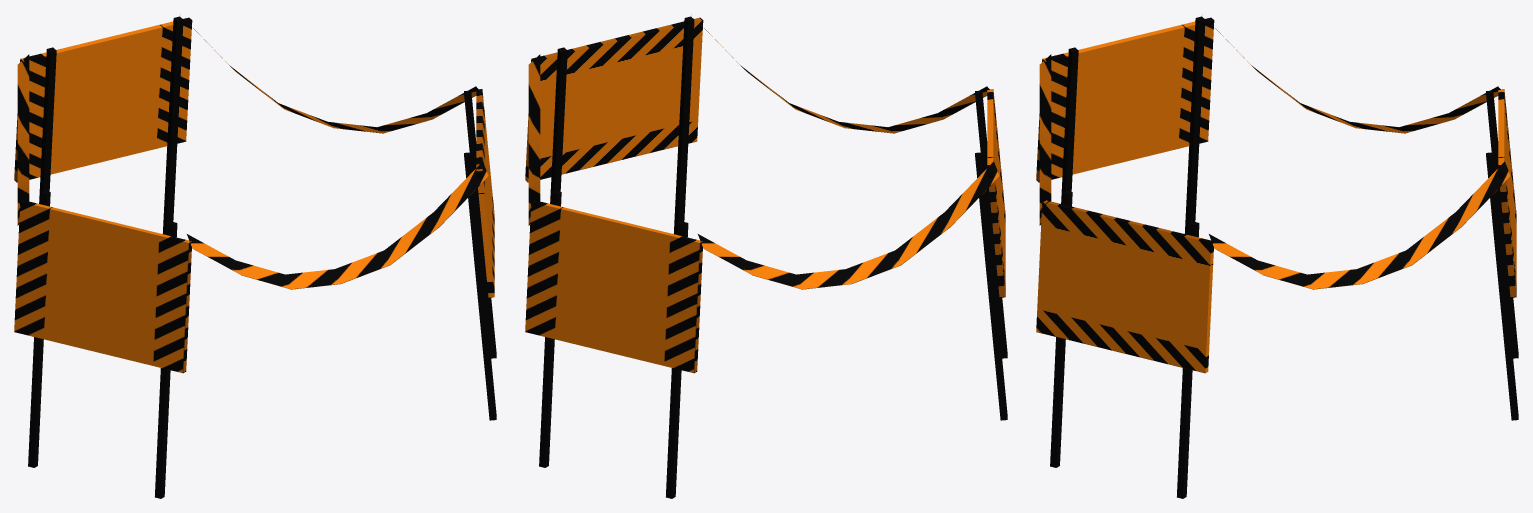
The model's file is ConstructionTile.fbx.
3 views of the same model, side by side, from view 1: azimuth 30°, elevation 25°; view 2: azimuth 150°, elevation 25°; view 3: azimuth 270°, elevation 25° (orthographic).
Parts seen in each view (by area): view 1: ConstructionZone; view 2: ConstructionZone; view 3: ConstructionZone.
Part boxes in pixels (<box>): ConstructionZone: <box>14,16,496,498</box>; ConstructionZone: <box>525,16,1007,498</box>; ConstructionZone: <box>1036,16,1518,498</box>.
Bounding box in the file's own units: 7.96 × 4.2 × 6.92.
